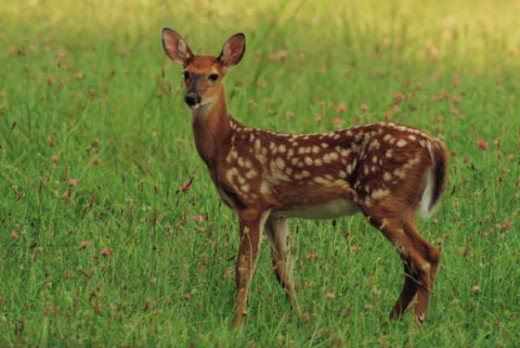Deer: (159, 26, 444, 328)
